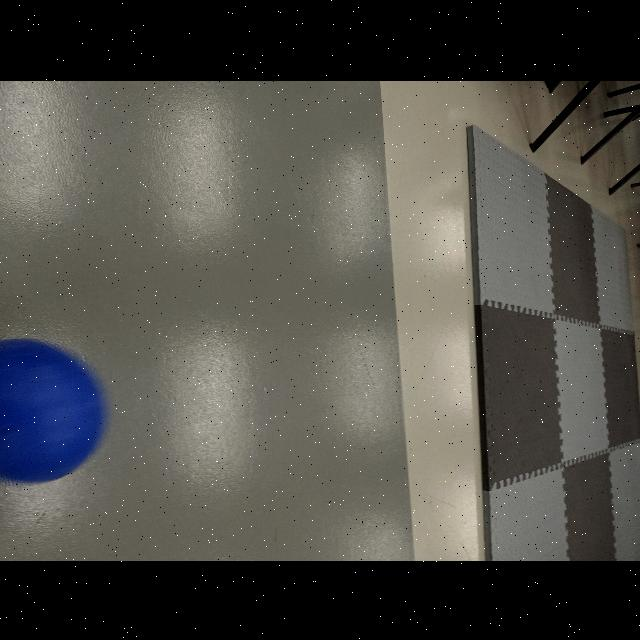B: (0, 338, 106, 484)
